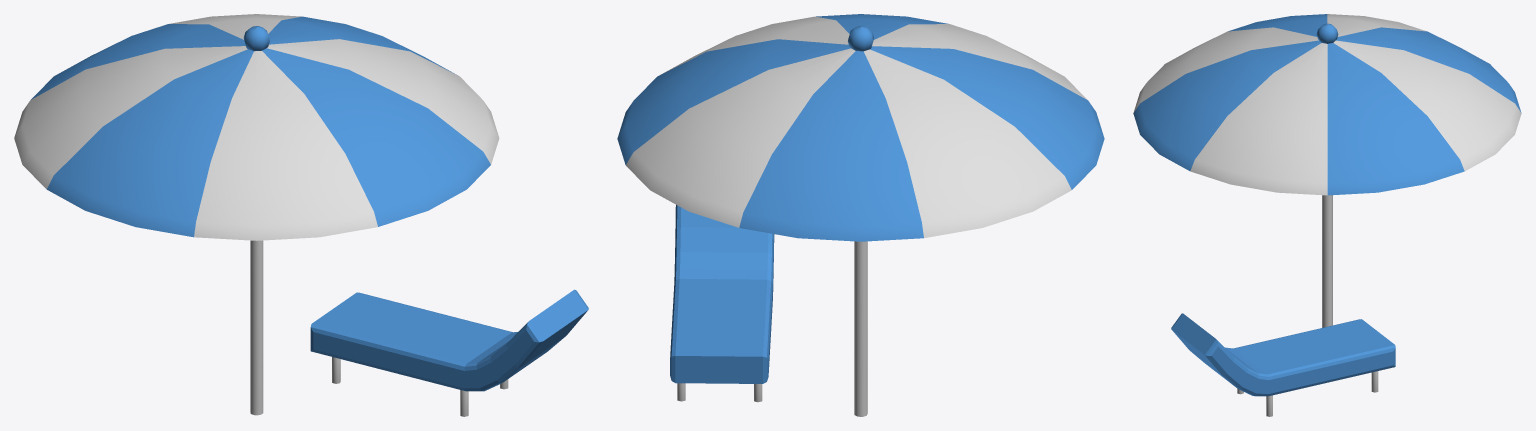
The model's file is guarda_sol_4.glb.
3 views of the same model, side by side, from view 1: azimuth 30°, elevation 25°; view 2: azimuth 150°, elevation 25°; view 3: azimuth 270°, elevation 25° (orthographic). The views are drawn at different scales.
Parts seen in each view (by area): view 1: guarda_sol_4_corpo; view 2: guarda_sol_4_corpo; view 3: guarda_sol_4_corpo.
Boxes of the visible parts, x1,y1,x2,y2 form: guarda_sol_4_corpo: (14, 14, 588, 416); guarda_sol_4_corpo: (617, 14, 1104, 416); guarda_sol_4_corpo: (1133, 14, 1521, 416).
Size of the model in its own units: 3.96 by 3.12 by 3.56.
